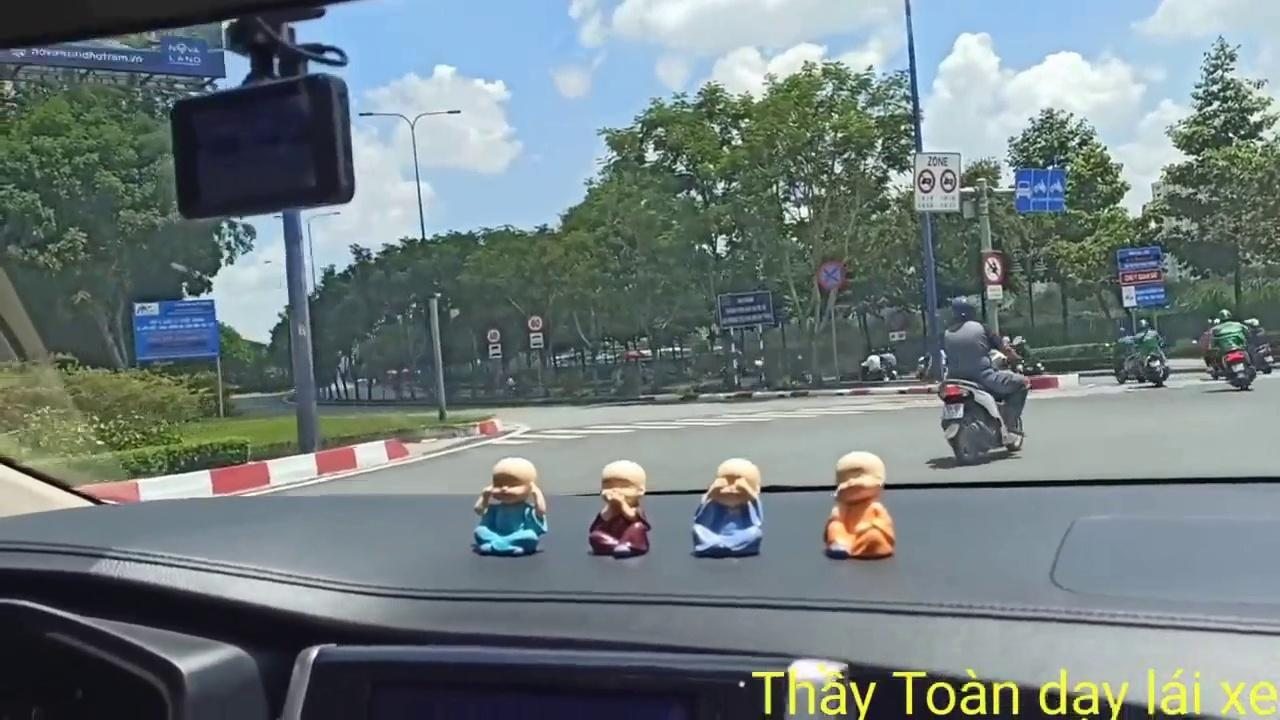Biển phụ: (530, 332, 544, 348), (488, 344, 502, 357)
Cấm cac phương tiện hoạt động trong khung giờ cố định: (914, 150, 961, 213)
Cấm dừng - Cấm đỗ: (816, 258, 847, 291)
Cấm xe máy: (979, 251, 1008, 283)
GIơi hạn tốc độ 60Km/h: (485, 326, 501, 342)
Giới hạn tốc độ 80Km/h: (528, 312, 544, 332)
Khác: (132, 300, 221, 360), (1117, 244, 1168, 308)
Làn đường cho từng xe: (1014, 165, 1066, 214)
